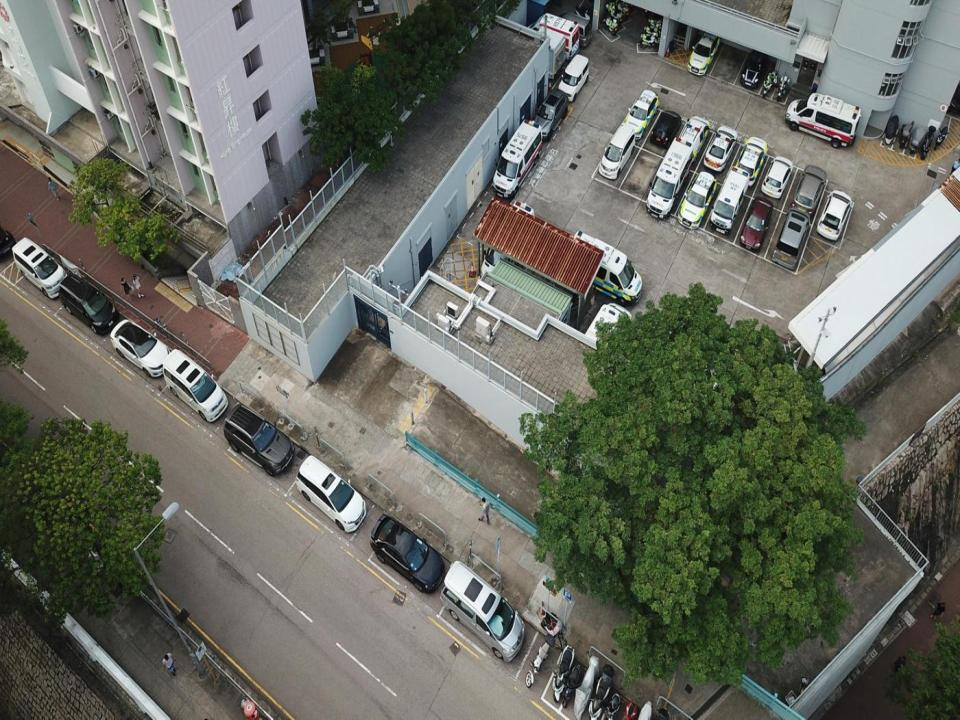car: (110, 319, 173, 379), (678, 171, 716, 229), (816, 188, 852, 240), (792, 165, 828, 216), (623, 90, 659, 141), (734, 136, 769, 187), (738, 198, 771, 252), (705, 124, 737, 173), (686, 30, 719, 77), (760, 154, 792, 198), (650, 110, 681, 150), (740, 47, 765, 87)
van: (441, 560, 524, 662), (370, 514, 444, 593), (563, 232, 642, 305), (295, 454, 367, 534), (163, 348, 229, 424), (223, 404, 293, 474), (786, 93, 862, 149), (479, 200, 534, 277), (646, 136, 693, 219), (577, 302, 631, 374), (492, 119, 541, 198), (10, 234, 68, 300), (57, 272, 116, 332), (521, 12, 579, 58), (772, 206, 811, 270), (712, 167, 749, 234), (598, 123, 636, 179), (531, 88, 568, 142), (672, 116, 710, 163), (558, 54, 589, 100), (551, 12, 592, 46), (0, 228, 18, 270)
